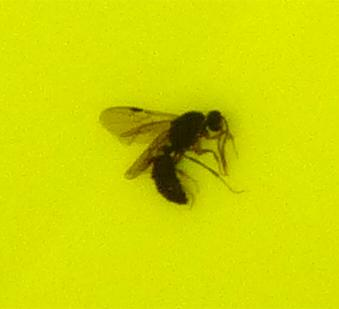Hymenoptera: (100, 100, 239, 209)
